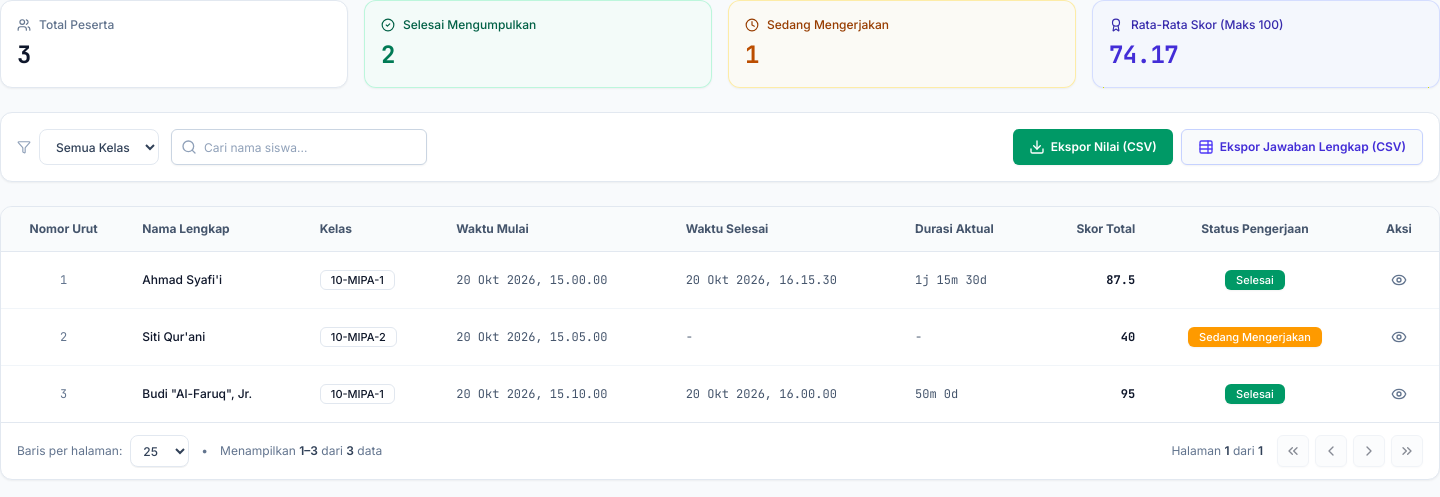
Test: F5-03: Rekapitulasi Nilai & Ekspor Laporan Akademis (ADM-RECP-01) › ExamReportView Component › menyaring daftar peserta berdasarkan filter dropdown kelas
This screenshot has width=1440, height=497.
Note: Pilih kelas 10-MIPA-2
Select "10-MIPA-2" in the dropdown named "Filter Berdasarkan Kelas" at [99, 147], box x1=39 y1=129 x2=159 y2=165
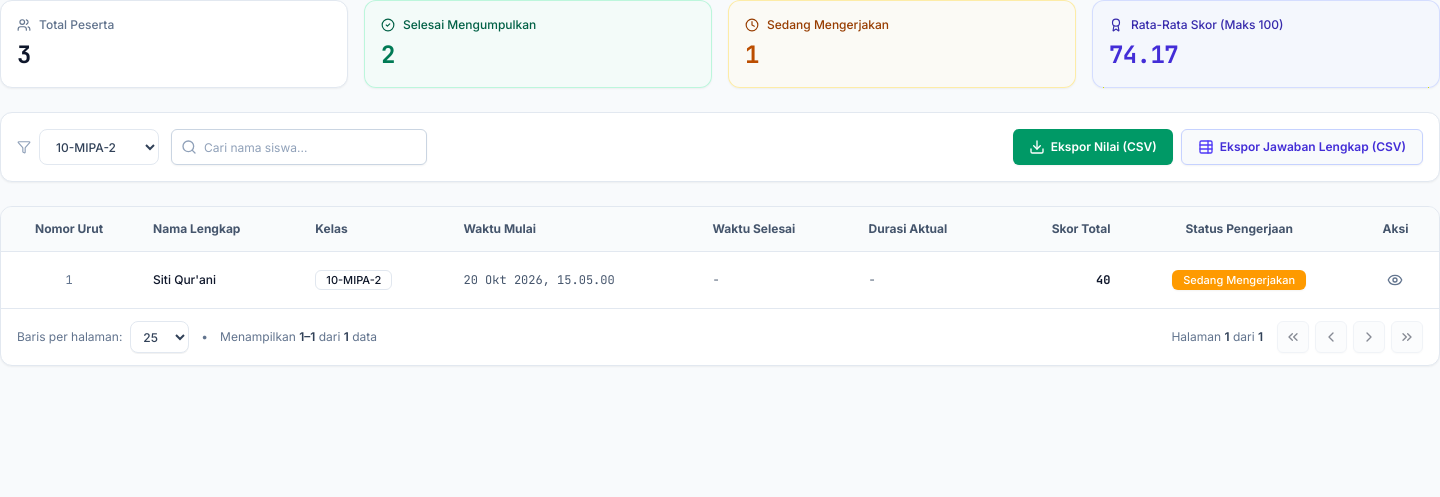
Expected: the text "Siti Qur'ani" is shown, x1=137 y1=252 x2=299 y2=308
Now the text "Ahmad Syafi'i" is gone
Now the text "Budi \"Al-Faruq\", Jr." is gone
Note: Kembali ke semua kelas
Select "Semua Kelas" in the dropdown named "Filter Berdasarkan Kelas" at [99, 147], box x1=39 y1=129 x2=159 y2=165
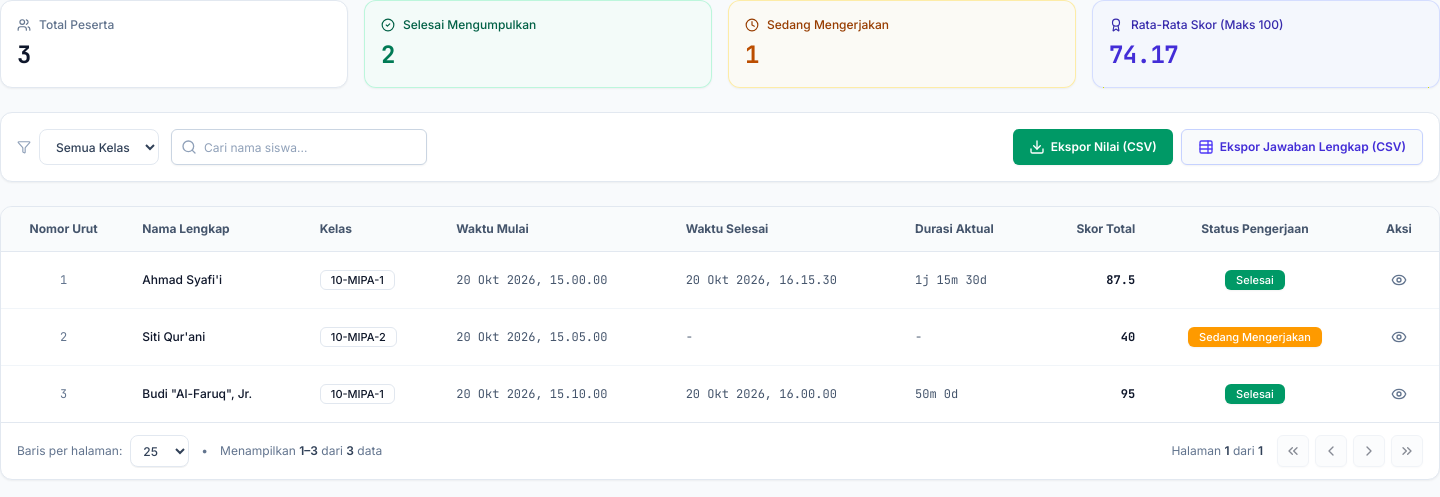
Now the text "Ahmad Syafi'i" is shown, box x1=126 y1=252 x2=304 y2=308
